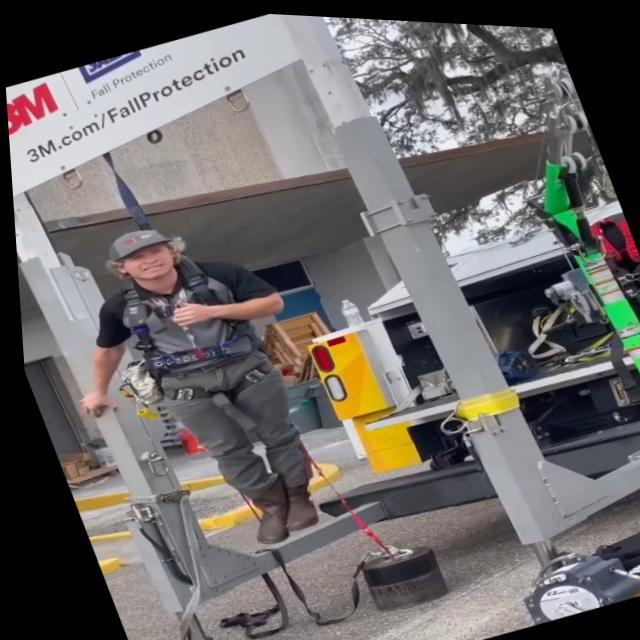belt: (88, 266, 130, 282)
